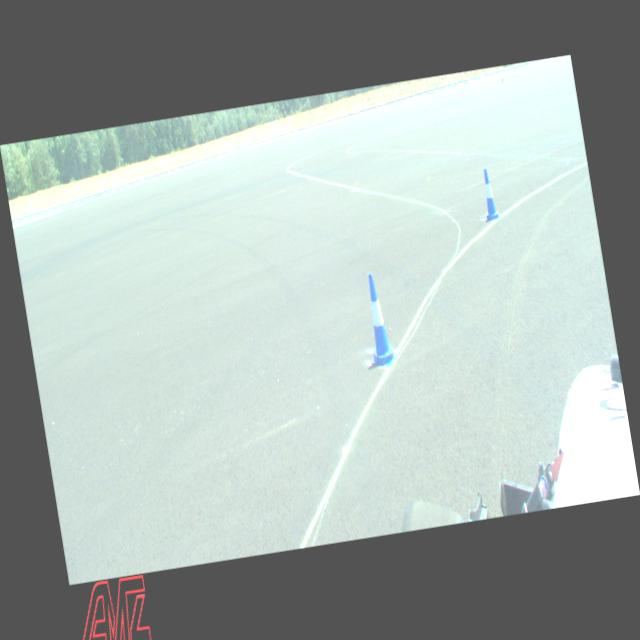blue_cone: (358, 272, 398, 368), (478, 168, 500, 222)
